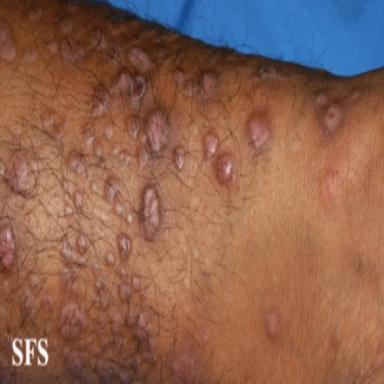Epidermolysis-Bullosa-Pruriginosa: (127, 110, 167, 167), (127, 306, 155, 364), (314, 92, 348, 136), (60, 241, 86, 296), (96, 356, 140, 384), (110, 72, 145, 104), (247, 113, 271, 156), (41, 108, 67, 143), (61, 303, 86, 339), (185, 73, 217, 101), (102, 312, 123, 351), (173, 350, 197, 383), (144, 187, 159, 237), (63, 347, 88, 377), (10, 153, 29, 191), (0, 23, 16, 61), (92, 276, 109, 310), (216, 153, 234, 185), (0, 227, 14, 267), (61, 39, 85, 62), (129, 48, 151, 72), (265, 308, 281, 340), (92, 88, 109, 117), (68, 151, 85, 175), (109, 15, 128, 36), (91, 28, 108, 50), (23, 290, 35, 320), (105, 178, 119, 202), (205, 134, 218, 159), (259, 65, 279, 81), (107, 45, 123, 65), (118, 235, 131, 259), (83, 124, 95, 144), (175, 148, 185, 170), (119, 283, 131, 300), (29, 274, 41, 291), (41, 294, 53, 310), (97, 314, 105, 338), (77, 235, 87, 254), (73, 191, 83, 209), (61, 19, 72, 35), (24, 49, 37, 62), (174, 70, 185, 85), (29, 8, 42, 20), (132, 276, 140, 291), (105, 126, 113, 140), (48, 41, 57, 53), (115, 202, 123, 215), (92, 264, 100, 276), (0, 161, 5, 178), (107, 252, 114, 264), (95, 145, 102, 157), (93, 347, 101, 356), (91, 182, 97, 193), (126, 214, 133, 223), (65, 206, 72, 215), (121, 267, 126, 275)
